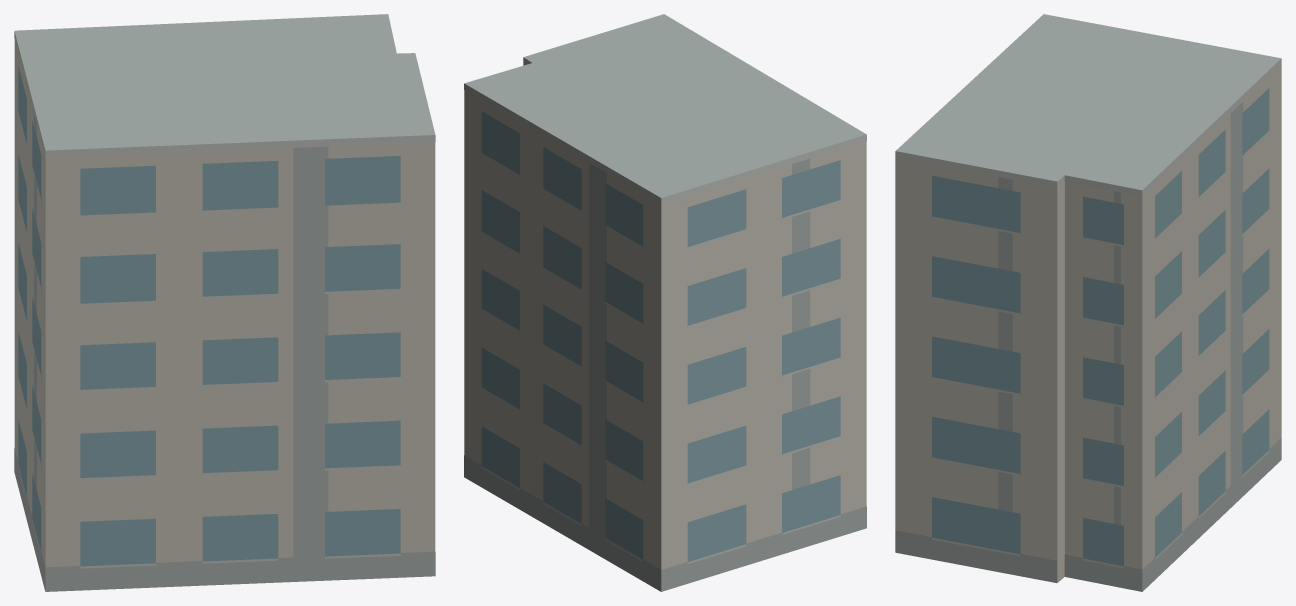
The model's file is survey-upis-32749575.glb.
The picture shows the model from 3 angles, left to right: view 1: azimuth 30°, elevation 25°; view 2: azimuth 150°, elevation 25°; view 3: azimuth 270°, elevation 25°; orthographic projection. The views are drawn at different scales.
Parts seen in each view (by area): view 1: survey-upis-32749575.tmp; view 2: survey-upis-32749575.tmp; view 3: survey-upis-32749575.tmp.
Boxes of the visible parts, x1=… form: survey-upis-32749575.tmp: x1=14, y1=14, x2=435, y2=591; survey-upis-32749575.tmp: x1=464, y1=14, x2=866, y2=591; survey-upis-32749575.tmp: x1=895, y1=14, x2=1281, y2=591.
Bounding box in the file's own units: 13.85 × 14.7 × 12.82.
